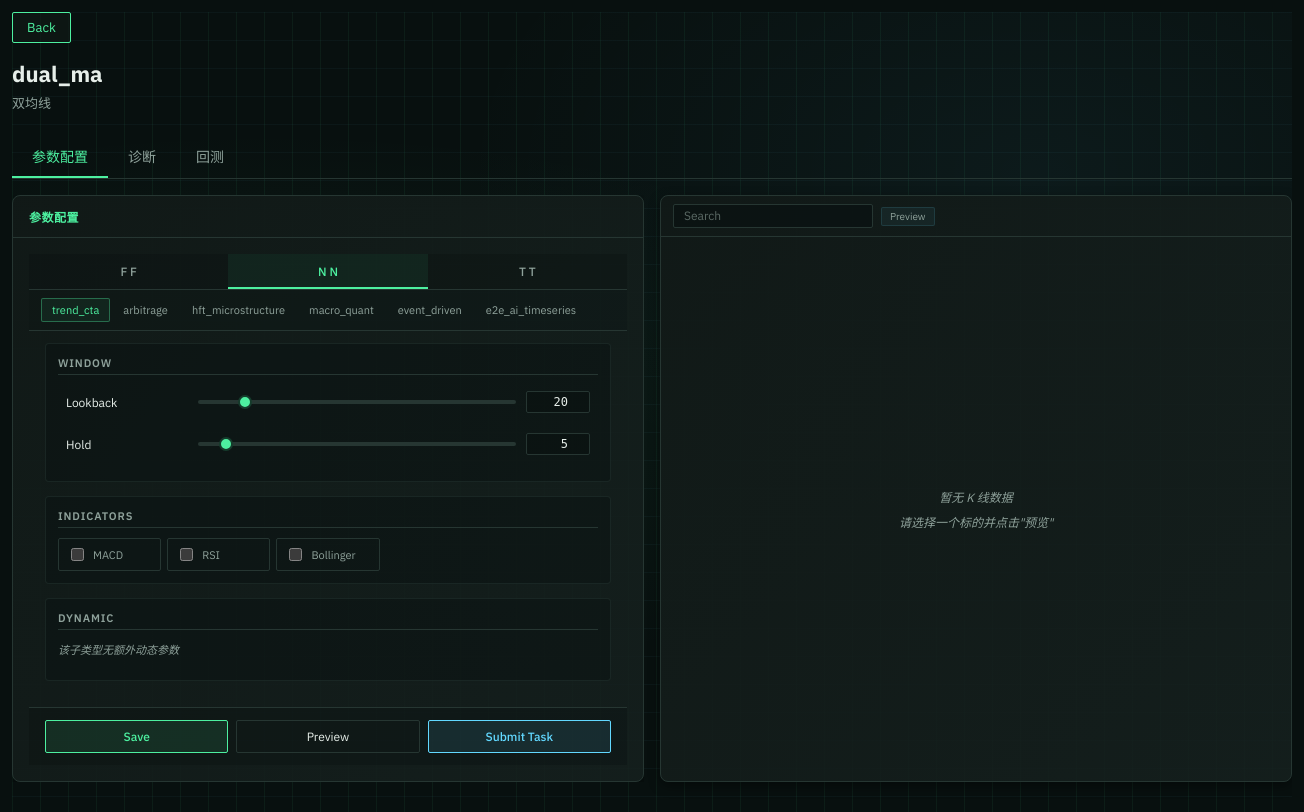
Test: WorkspacePage › switches to backtest tab on click
Click the button "回测" at (210, 157), box [176,136,244,178]
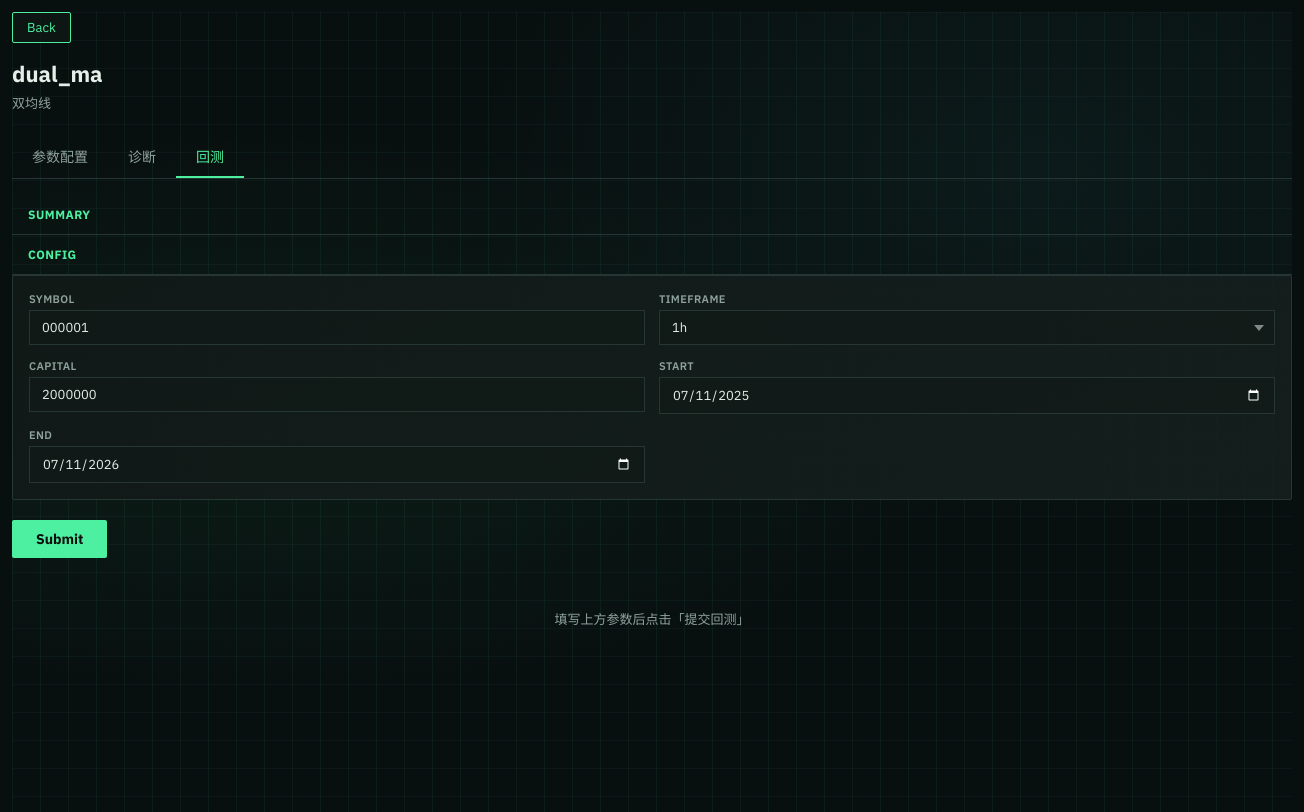
Now the text "Symbol" is shown, box [29,292,75,306]
